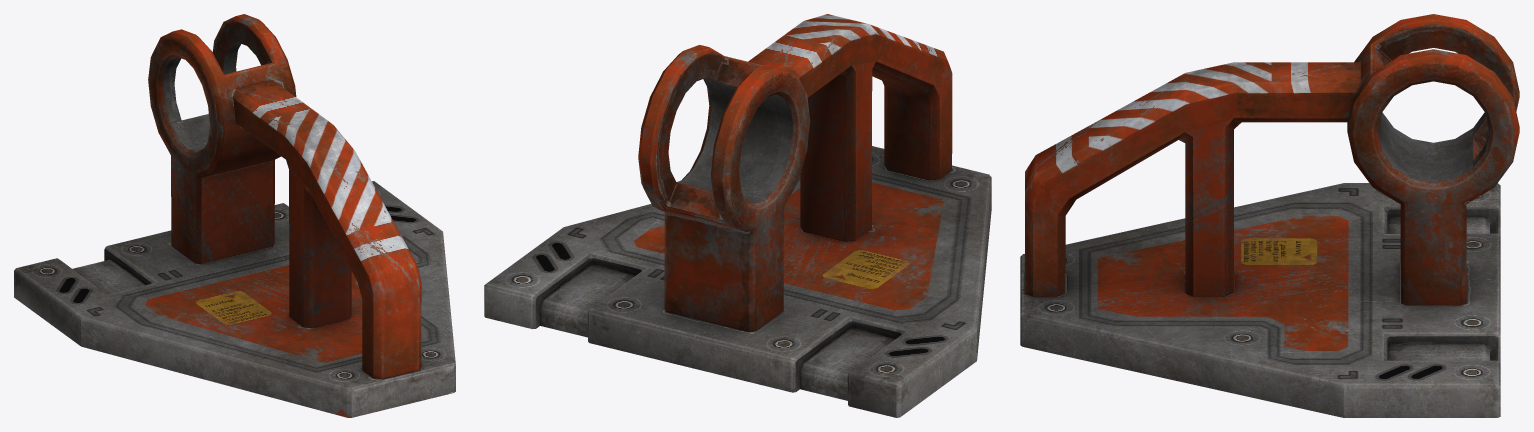
Rendered from roof_support_girder_tau_bottom.dae.
3 renders of one model, left to right at view 1: azimuth 30°, elevation 25°; view 2: azimuth 150°, elevation 25°; view 3: azimuth 270°, elevation 25°, orthographic. The views are drawn at different scales.
Parts seen in each view (by area): view 1: polySurface1; view 2: polySurface1; view 3: polySurface1.
Boxes of the visible parts, left/top/right/bottom form: polySurface1: left=14, top=14, right=455, bottom=417; polySurface1: left=484, top=14, right=991, bottom=417; polySurface1: left=1020, top=14, right=1519, bottom=417.
Size of the model in its own units: 1.75 by 1.14 by 1.82.
